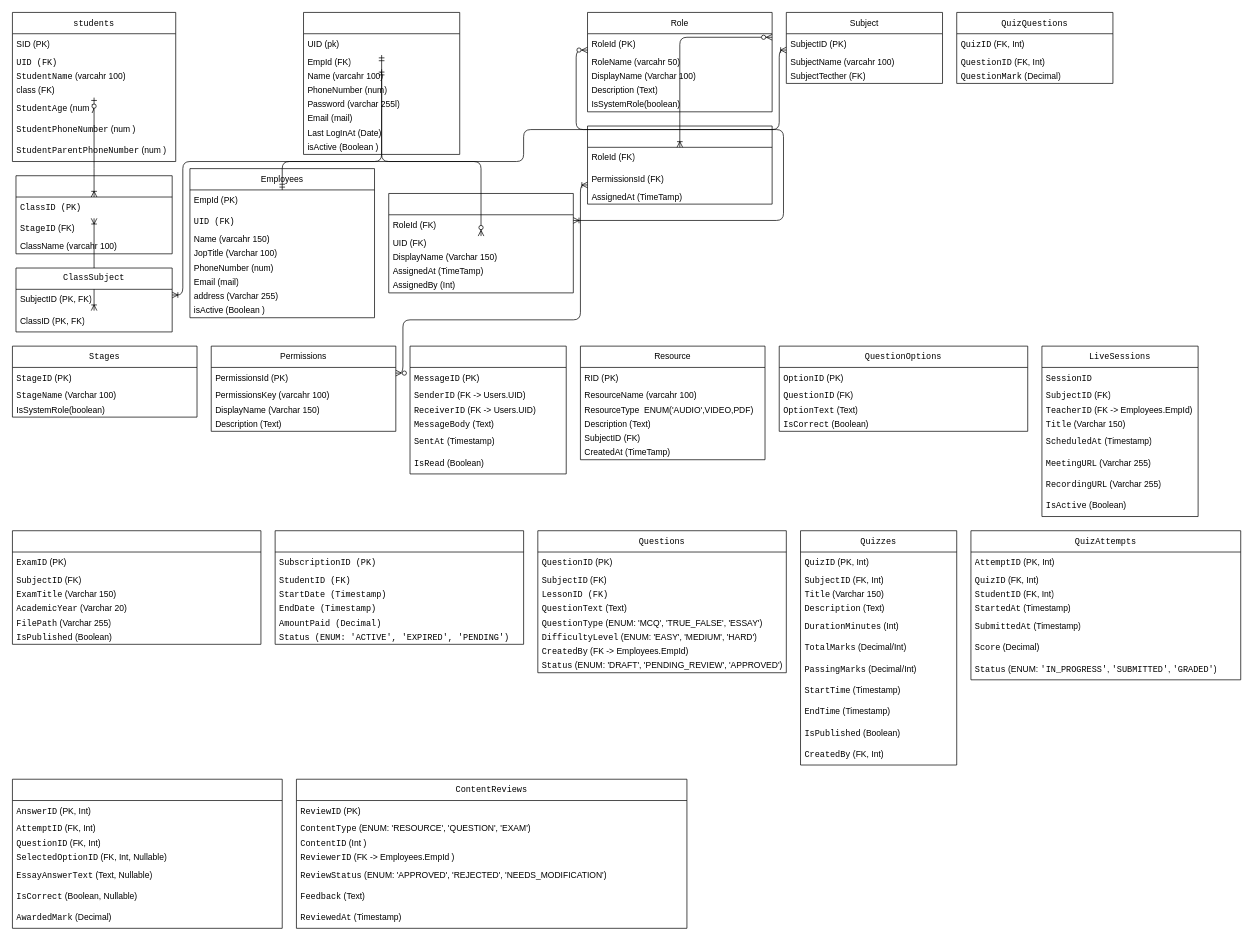
Some shapes in this 1253 by 941 pixel diagram are drawn without their labels. Each missing label, with the box of its shape:
Classes: (15, 175, 172, 254)
Messages: (409, 345, 566, 474)
PastExams: (12, 530, 261, 644)
PermissionsRole: (587, 125, 772, 204)
StudentAnswers: (12, 779, 282, 928)
Subscriptions: (274, 530, 524, 644)
User: (303, 12, 460, 154)
UserRole: (388, 193, 573, 293)
